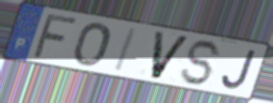F: (30, 13, 82, 61)
I: (112, 27, 139, 75)
J: (220, 48, 259, 91)
O: (71, 22, 112, 68)
S: (178, 39, 225, 88)
V: (149, 29, 193, 81)
